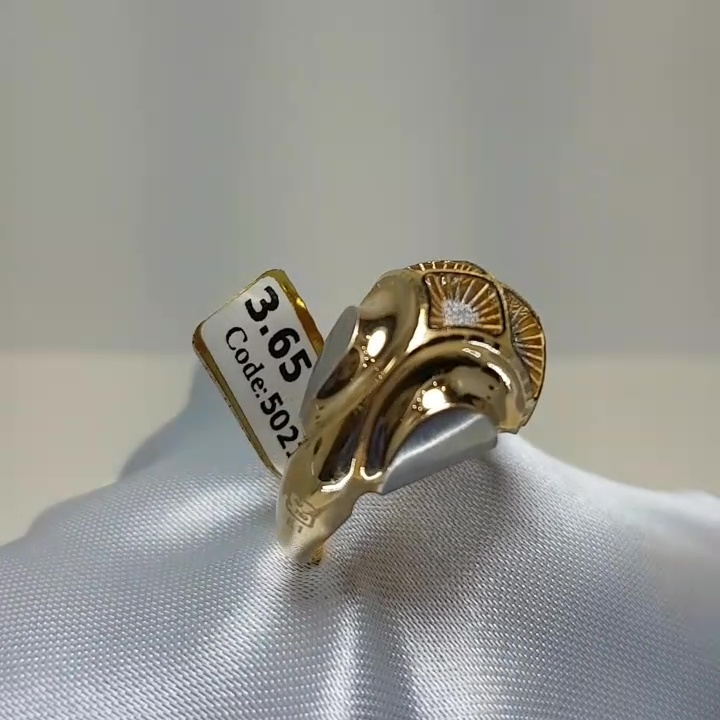Ring 2: (226, 227, 600, 584)
